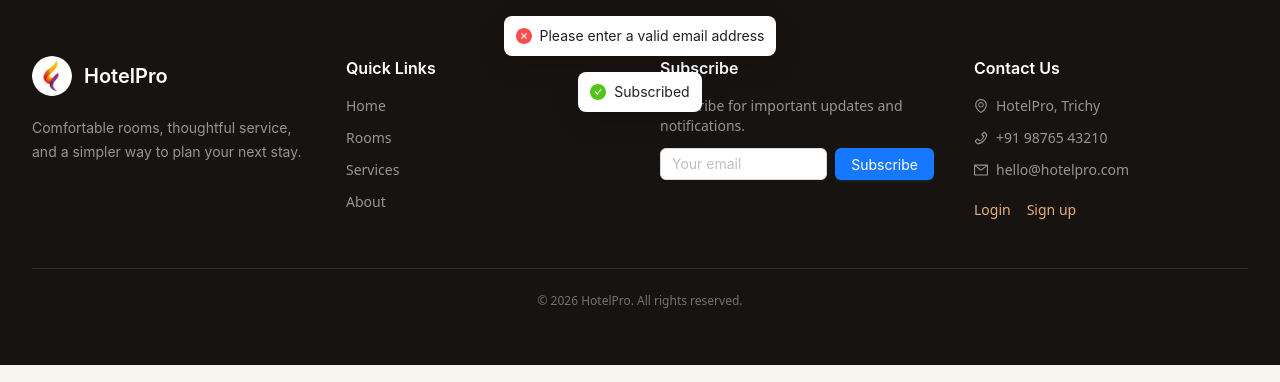
Test case: Footer › shows API error message
Type "user@example.com" into the field named "Subscription email". click: (744, 164)
box: x1=660 y1=148 x2=827 y2=180
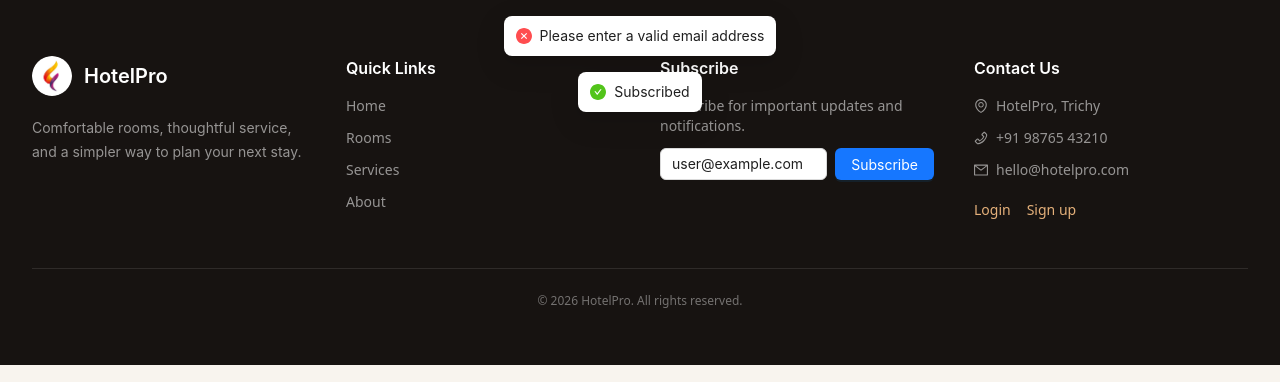
Click the button "Subscribe". click: (885, 164)
box: x1=835 y1=148 x2=934 y2=180
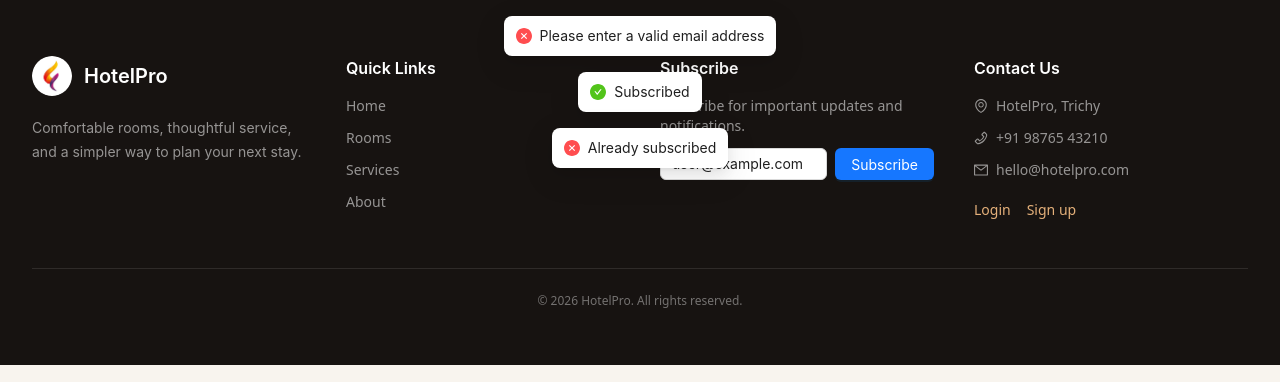
Expected: the text "Already subscribed" is shown, x1=588 y1=137 x2=716 y2=159
